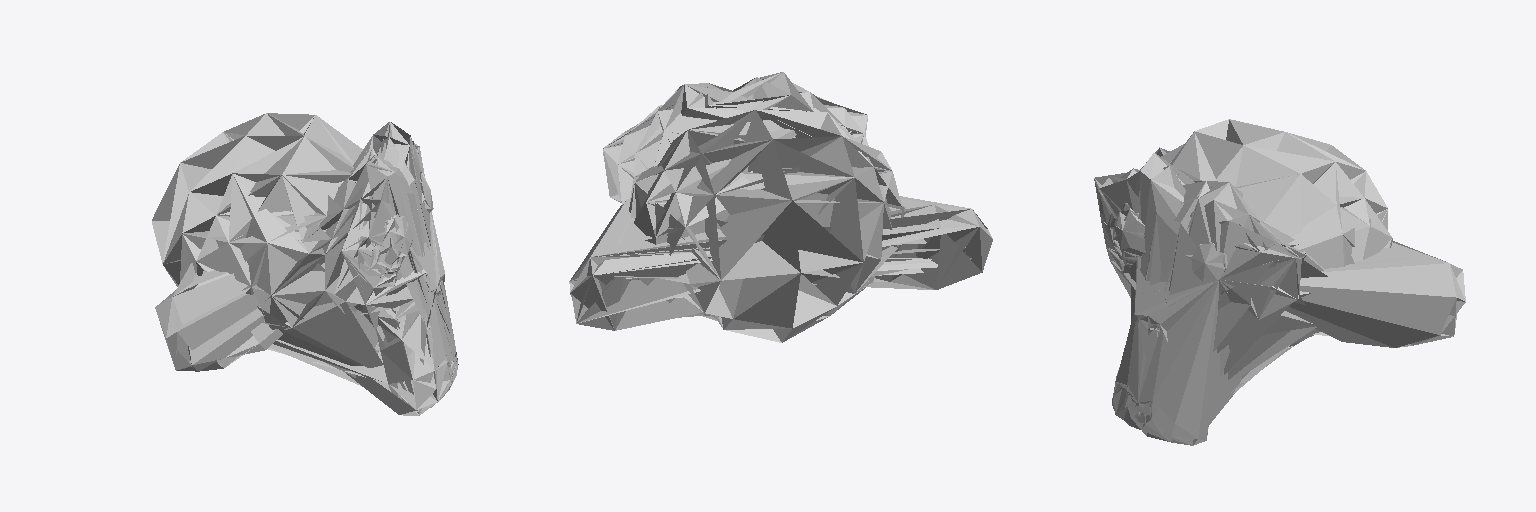
File: suzanne2.obj
3 views of the same model, side by side, from view 1: azimuth 30°, elevation 25°; view 2: azimuth 150°, elevation 25°; view 3: azimuth 270°, elevation 25° (orthographic).
Size of the model in its own units: 2.25 by 1.73 by 2.3.